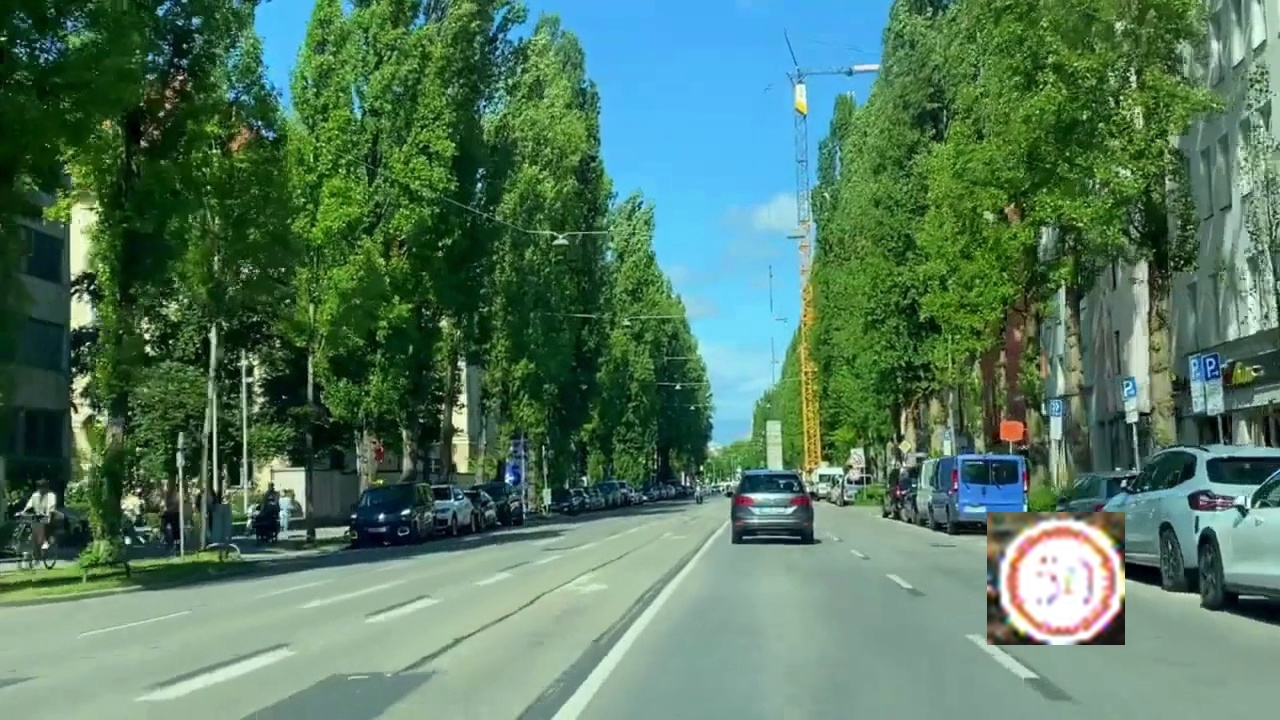Speed 50: (987, 512, 1125, 645)
